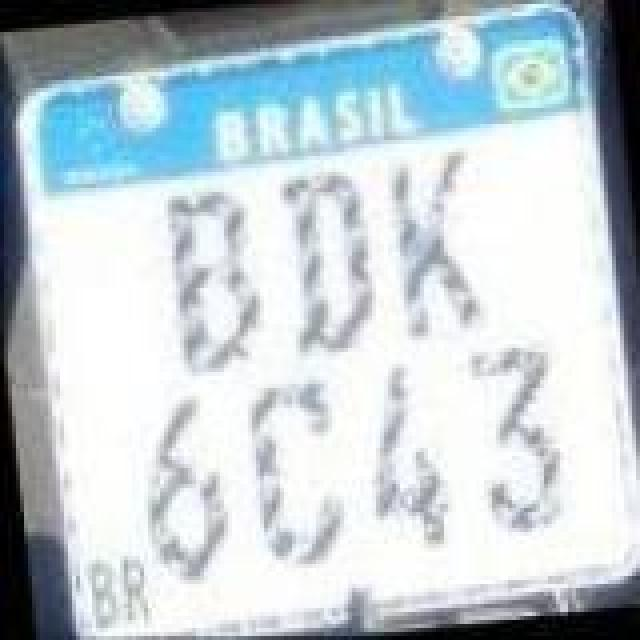3: (460, 334, 576, 538)
4: (350, 356, 454, 560)
6: (122, 384, 242, 588)
B: (158, 176, 270, 372)
C: (240, 370, 356, 570)
D: (272, 160, 388, 364)
K: (380, 146, 496, 346)
